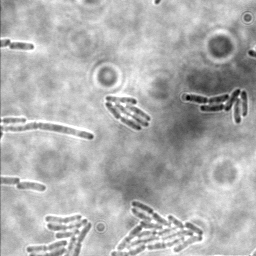Dividing: (1, 122, 96, 142), (8, 40, 36, 52)
Microcolony: (109, 199, 206, 255), (25, 211, 95, 255), (184, 88, 249, 126), (103, 95, 151, 132), (16, 181, 49, 193)
